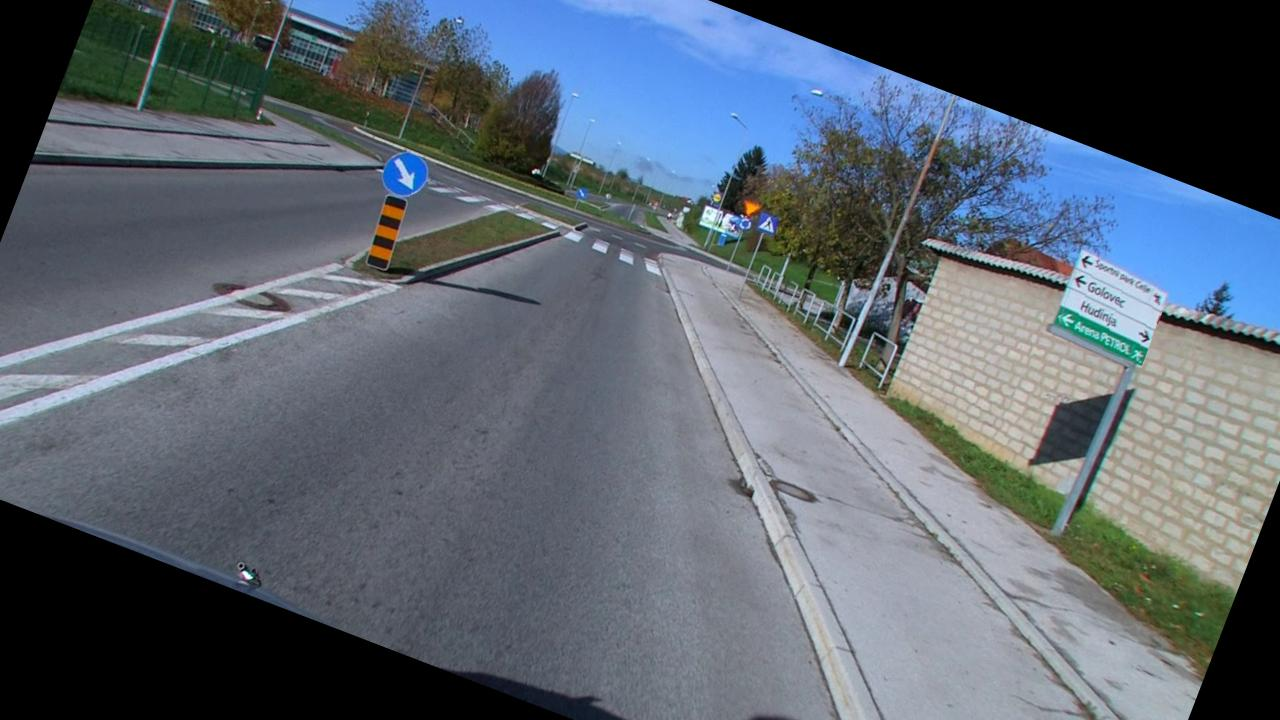Multi-inform: (1050, 247, 1174, 366)
Round: (376, 147, 436, 207), (733, 214, 754, 234)
Squared: (754, 210, 782, 238)
Triangle: (740, 197, 761, 218)
